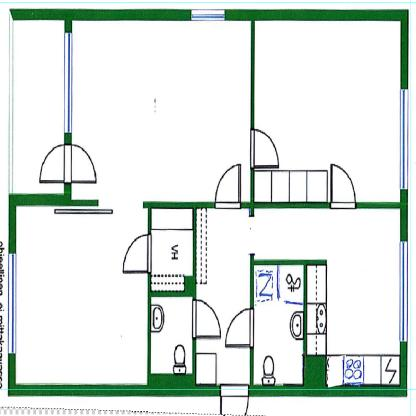door: (36, 142, 99, 184), (122, 226, 152, 280), (329, 164, 358, 214), (223, 308, 255, 352), (249, 127, 281, 169), (216, 164, 244, 212), (191, 300, 220, 342), (218, 382, 252, 416)
window: (399, 88, 409, 189), (400, 243, 409, 342), (63, 33, 71, 134), (190, 7, 226, 22), (10, 252, 15, 356)
zone: (196, 208, 400, 386), (75, 23, 249, 201), (255, 19, 399, 200), (16, 204, 145, 386), (13, 17, 63, 194), (252, 267, 304, 383), (152, 207, 192, 292), (152, 297, 192, 373)
